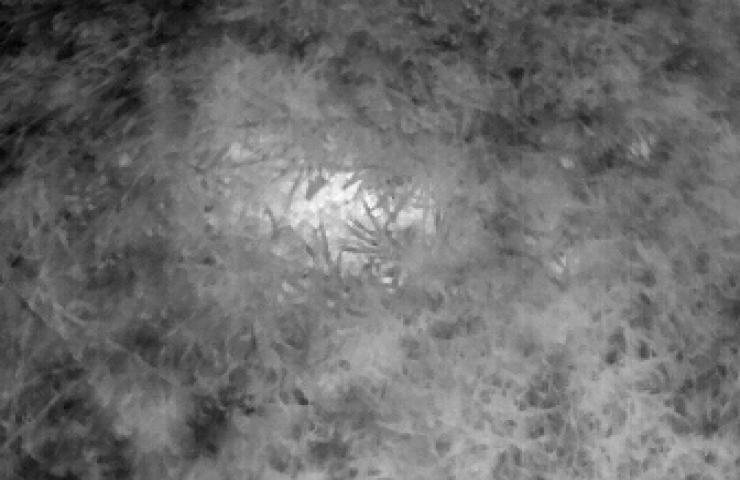landmines: (234, 161, 438, 291)
